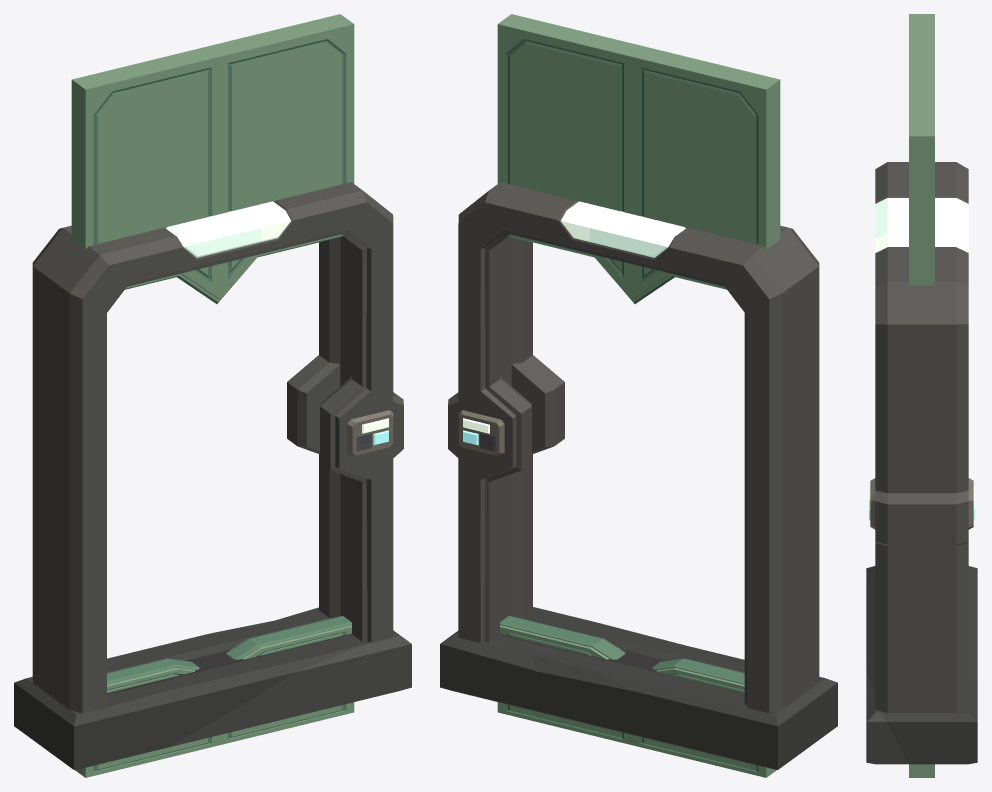
The model's file is entity110876.glb.
The picture shows the model from 3 angles, left to right: view 1: azimuth 30°, elevation 25°; view 2: azimuth 150°, elevation 25°; view 3: azimuth 270°, elevation 25°; orthographic projection. The views are drawn at different scales.
Parts seen in each view (by area): view 1: node_SM_Bld_Door_Single_02 (2), node_SM_Bld_Door_Single_02_Door_02, node_SM_Bld_Door_Single_02_Door_01; view 2: node_SM_Bld_Door_Single_02 (2), node_SM_Bld_Door_Single_02_Door_02, node_SM_Bld_Door_Single_02_Door_01; view 3: node_SM_Bld_Door_Single_02 (2), node_SM_Bld_Door_Single_02_Door_02, node_SM_Bld_Door_Single_02_Door_01.
Boxes of the visible parts, box(x1,y1,x2,y2) form: node_SM_Bld_Door_Single_02 (2): box(14, 182, 411, 769); node_SM_Bld_Door_Single_02_Door_02: box(71, 14, 354, 303); node_SM_Bld_Door_Single_02_Door_01: box(75, 616, 354, 777); node_SM_Bld_Door_Single_02 (2): box(440, 182, 837, 769); node_SM_Bld_Door_Single_02_Door_02: box(497, 14, 780, 303); node_SM_Bld_Door_Single_02_Door_01: box(497, 616, 776, 777); node_SM_Bld_Door_Single_02 (2): box(866, 162, 977, 764); node_SM_Bld_Door_Single_02_Door_02: box(909, 14, 934, 285); node_SM_Bld_Door_Single_02_Door_01: box(909, 764, 934, 777).
Size of the model in its own units: 2.14 by 4.12 by 0.6494.
1 material, 1 textured.
